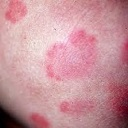Hives: (48, 31, 96, 78), (7, 3, 29, 24), (27, 111, 52, 128)
